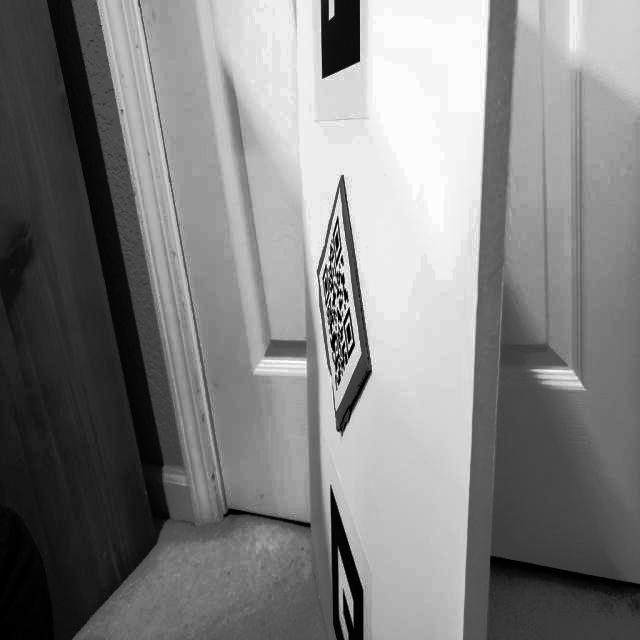qr_code: (312, 208, 363, 400)
